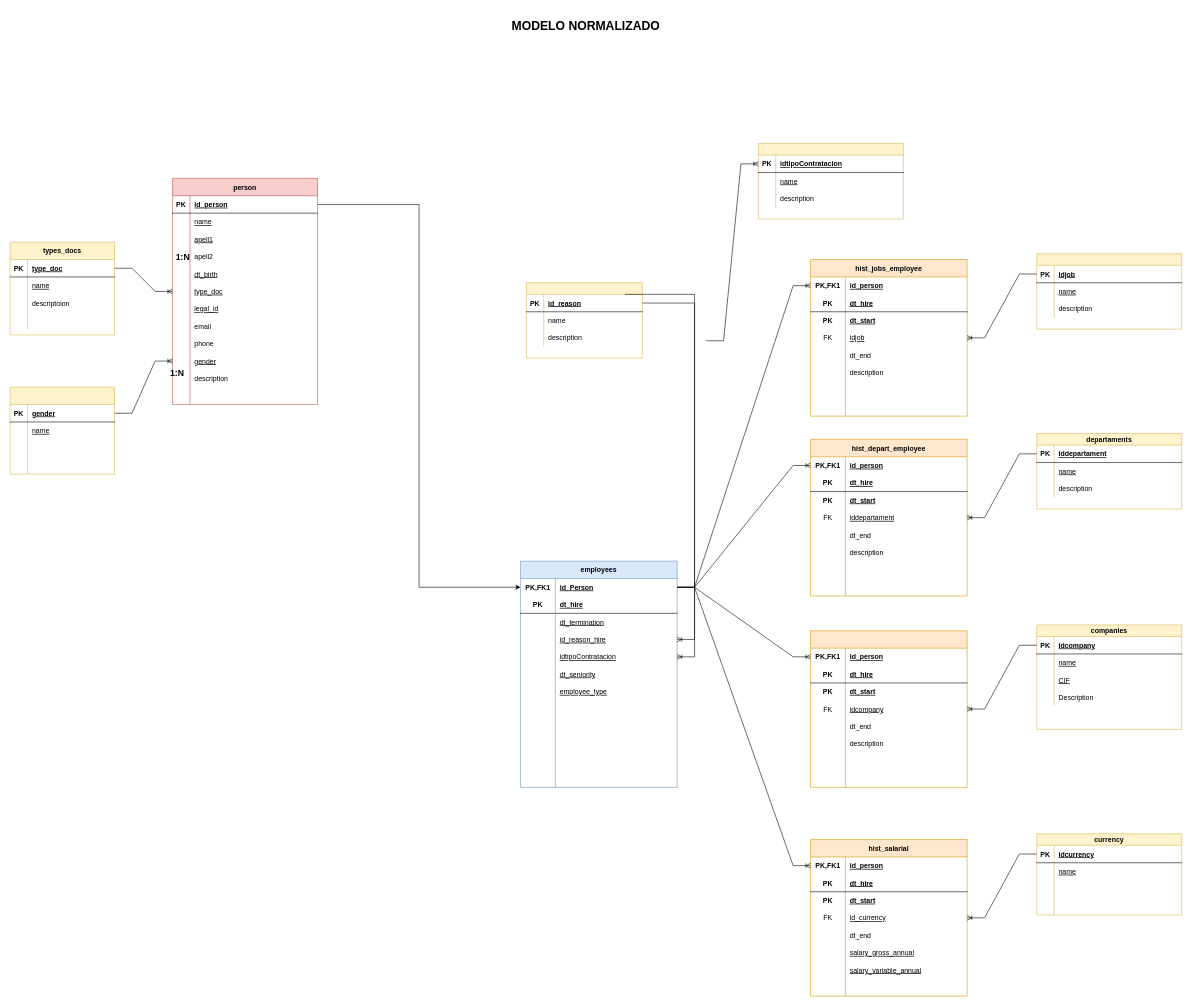
Image size: 1192x1006. Some labels were removed from this diagram. Each missing label, with the box of its shape:
hist_company_employee: (810, 630, 967, 787)
jobs: (1036, 253, 1182, 329)
motivos: (526, 282, 642, 358)
tpcontratacion: (758, 143, 903, 219)
types_genders: (10, 387, 115, 474)
